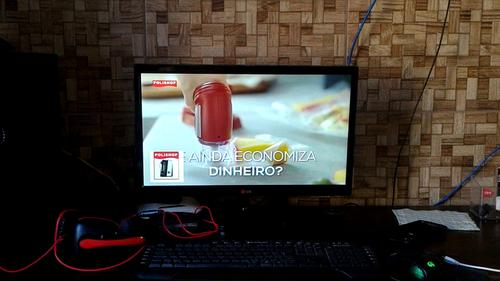Polishop #1: (150, 149, 184, 181)
